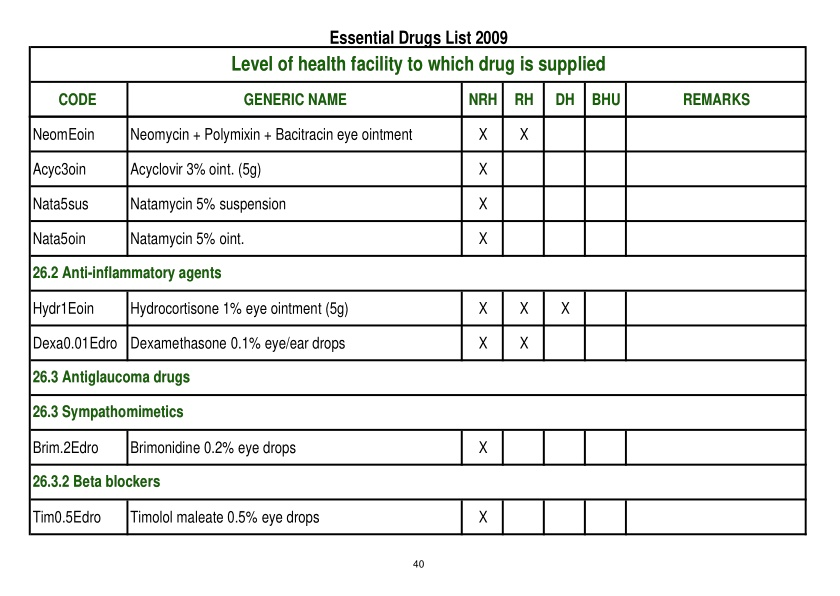merged_cells: (28, 45, 807, 536)
